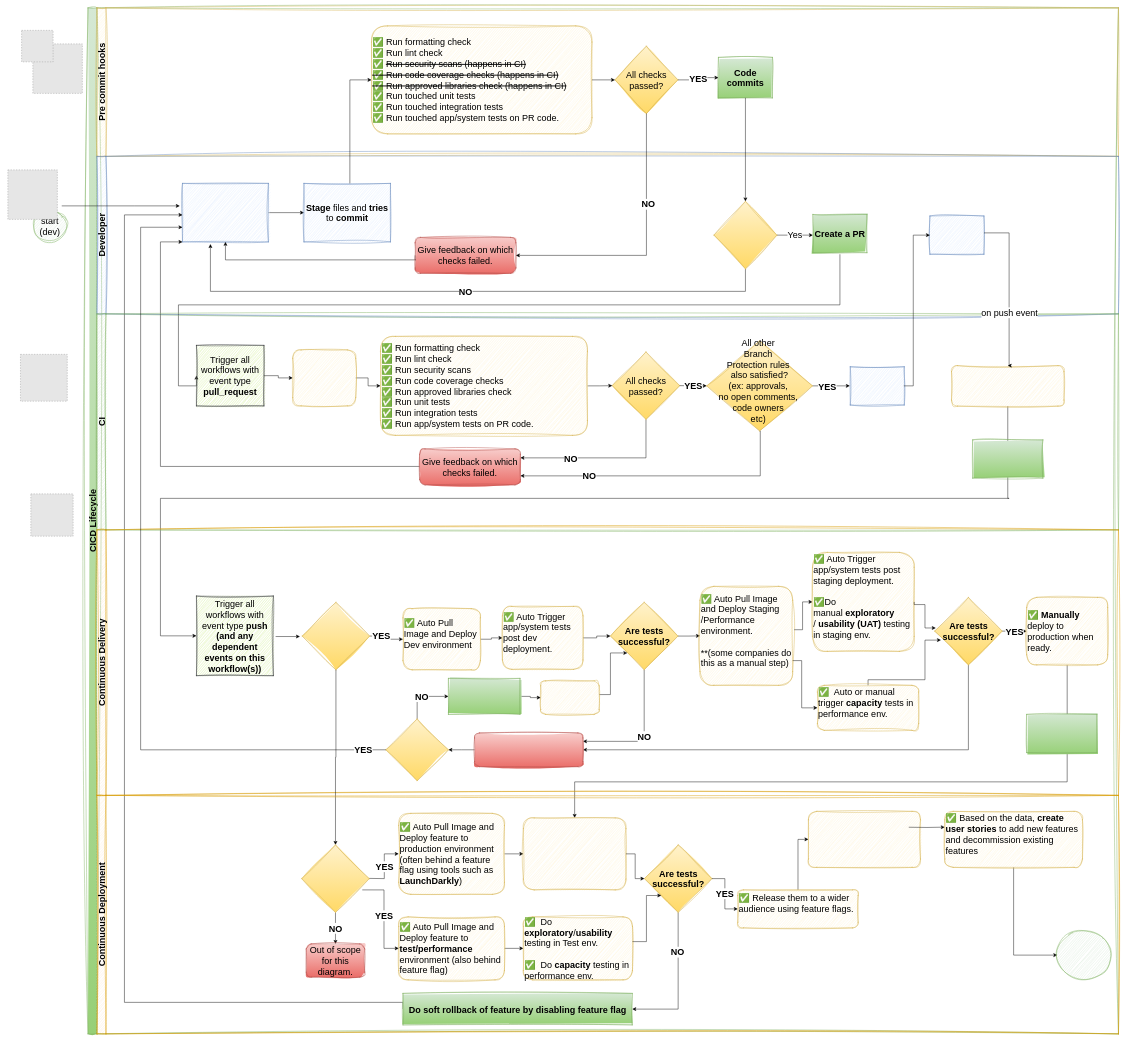
The diagram is 1126 pixels wide and 1042 high, and some of its shapes have lost their labels. Grey dashed boxes stand in for pictures. The centre of each missing label's shape, as x and y in pixels:
"add/update/fix code (say for a new or existing feature)" goes at point 225,212.
"Blocking issue in code?" goes at point 416,749.
"Do RCA and find if issues is in tests, env or code." goes at point 528,749.
"End (back to dev)" goes at point 1084,955.
"fix env or tests or raise a bug." goes at point 484,696.
"Following Continuous Delivery?" goes at point 336,636.
"Following Continuous Deployment?" goes at point 335,878.
"Merge PR" goes at point 956,235.
"PR is merged to main branch" goes at point 1007,458.
"PR is ready to merge" goes at point 877,385.
"Prod deployed" goes at point 1061,733.
"Ready to create PR?" goes at point 745,235.
"✅ Auto Build Image" goes at point 324,377.
"✅ Auto Publish Image to container registry" goes at point 1007,385.
"✅ Collect user metrics using tools such as Amplitude or Google Analytics" goes at point 864,839.
"✅ Do beta testing in production. ✅ Do A/B testing in production." goes at point 574,853.
"✅ Rerun tests" goes at point 569,697.
